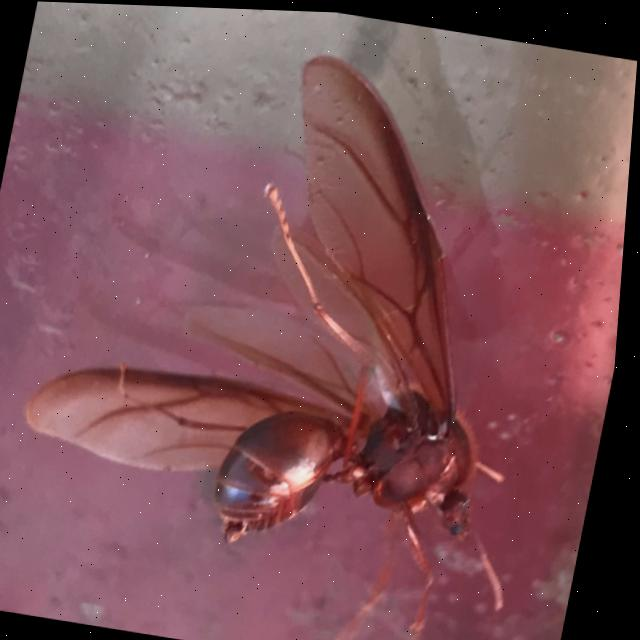Dead-Male-Alate: (0, 15, 606, 640)
